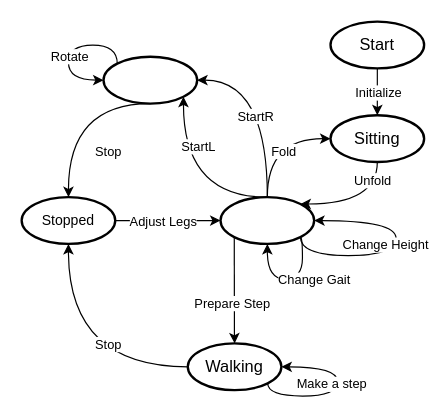
Some shapes in this 448 by 417 pixel diagram are drawn without their labels. Each missing label, with the centre of its shape:
"Rotating" belongs at (150,79).
"Standing" belongs at (267,220).
